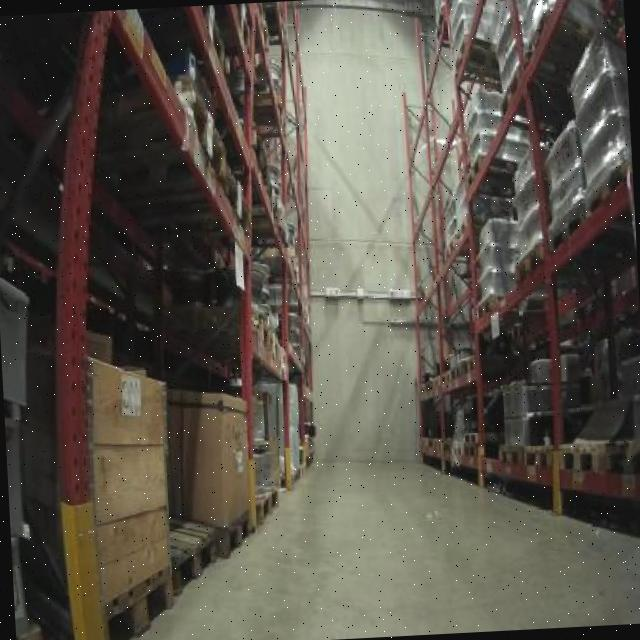pallet: (88, 559, 181, 640), (166, 514, 226, 594), (550, 439, 632, 485), (212, 505, 260, 561), (510, 238, 548, 288), (518, 435, 564, 476), (497, 442, 530, 470), (461, 439, 482, 461), (458, 358, 481, 374)
